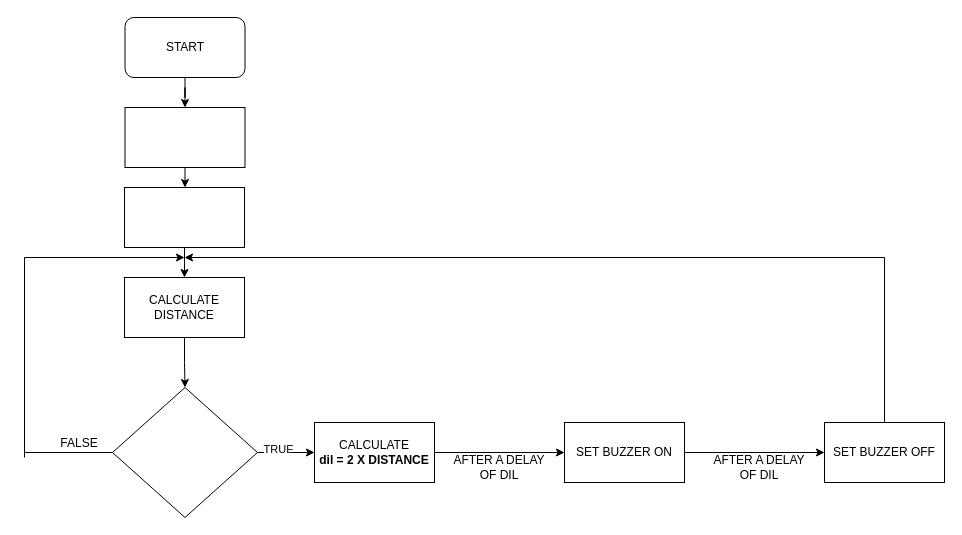
The diagram is 962 pixels wide and 535 high, and some of its shapes have lost their labels. Here are the shapes that lost their labels. From the top down, the box of each, then its label:
(124, 106, 245, 168): SET BUZZER AS OUTPUT AT PIN 4
(124, 186, 244, 248): SET THE TRIG AND ECHO PIN AT 12 AND 11
(112, 386, 258, 518): IF DISTANCE < 50cm
